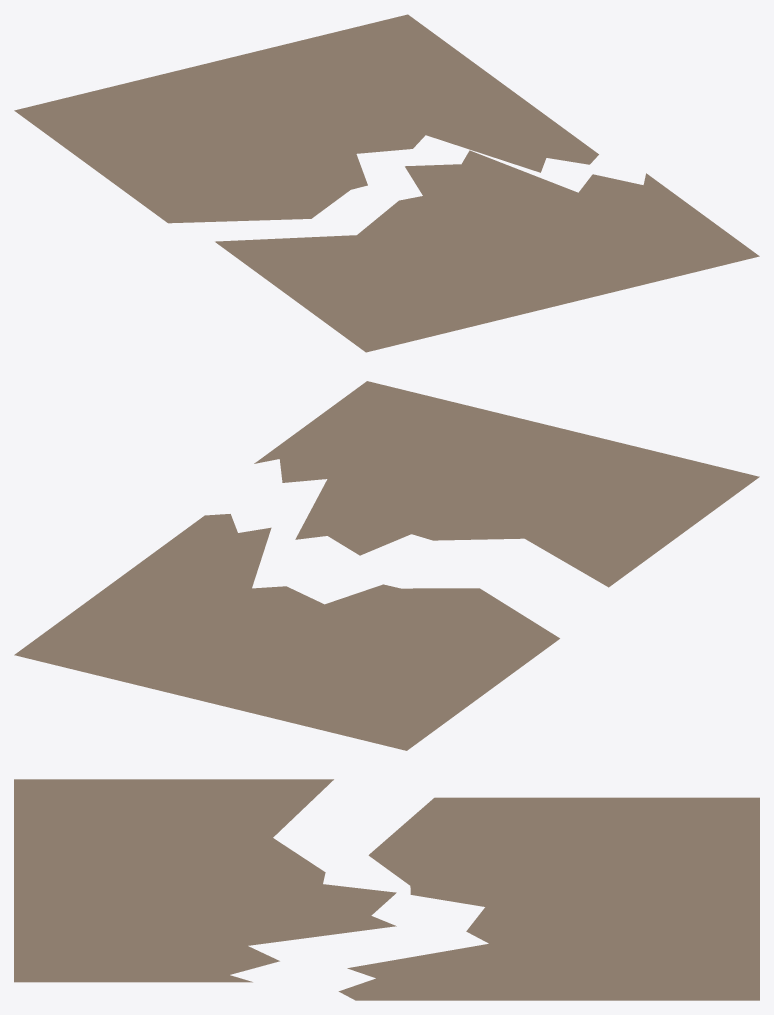
Rendered from Letter4.fbx.
The picture shows the model from 3 angles, top to bottom: view 1: azimuth 30°, elevation 25°; view 2: azimuth 150°, elevation 25°; view 3: azimuth 270°, elevation 25°; orthographic projection. The views are drawn at different scales.
Parts seen in each view (by area): view 1: Cube.054, Cube.053; view 2: Cube.054, Cube.053; view 3: Cube.054, Cube.053.
Boxes of the visible parts, bbox=[...] form: Cube.054: bbox=[14, 14, 598, 223]; Cube.053: bbox=[215, 150, 759, 352]; Cube.054: bbox=[14, 514, 559, 750]; Cube.053: bbox=[254, 381, 759, 587]; Cube.054: bbox=[338, 797, 759, 1000]; Cube.053: bbox=[14, 779, 396, 982].
Bounding box in the file's own units: 60.54 × 2.45 × 93.71.
